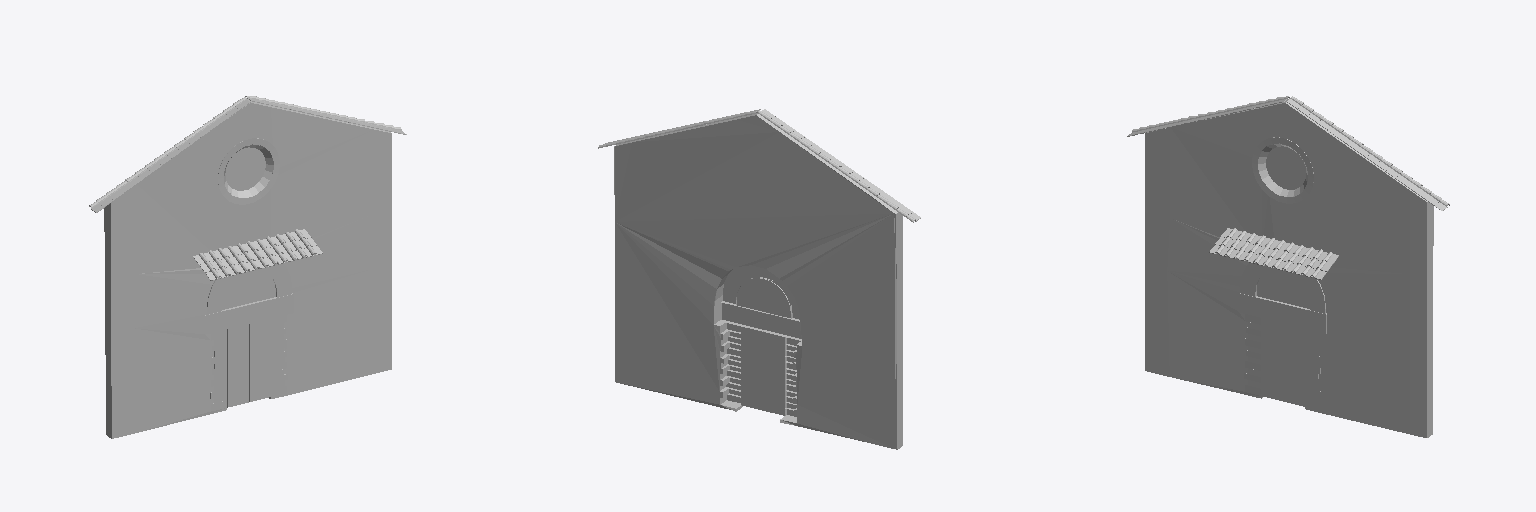
The model's file is Facciata.obj.
3 renders of one model, left to right at view 1: azimuth 30°, elevation 25°; view 2: azimuth 150°, elevation 25°; view 3: azimuth 330°, elevation 25°, orthographic.
Visible parts, largest first — view 1: EX_MuraChiesaFronteMap; view 2: EX_MuraChiesaFronteMap; view 3: EX_MuraChiesaFronteMap.
Boxes of the visible parts, x1=… form: EX_MuraChiesaFronteMap: x1=89, y1=96, x2=406, y2=438; EX_MuraChiesaFronteMap: x1=598, y1=109, x2=920, y2=449; EX_MuraChiesaFronteMap: x1=1127, y1=96, x2=1449, y2=437.
Bounding box in the file's own units: 11.44 × 10.64 × 1.7.